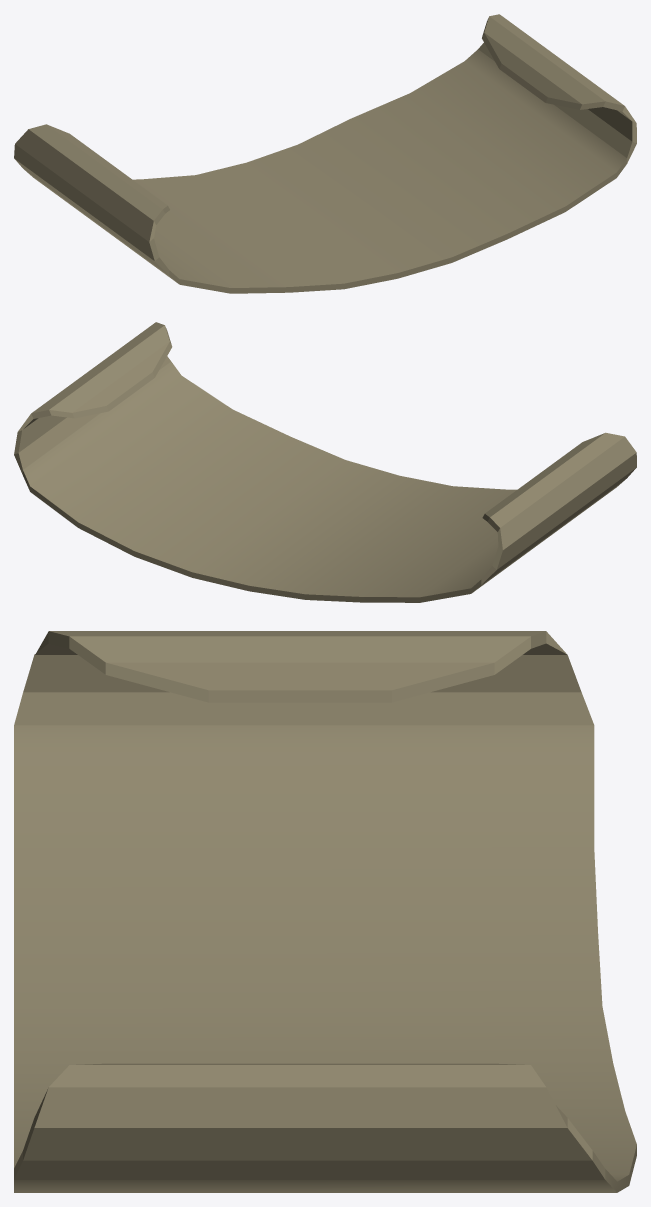
File: Mapa 2.fbx
3 renders of one model, top to bottom at view 1: azimuth 30°, elevation 25°; view 2: azimuth 150°, elevation 25°; view 3: azimuth 270°, elevation 25°, orthographic. The views are drawn at different scales.
Parts seen in each view (by area): view 1: Mapa_1; view 2: Mapa_1; view 3: Mapa_1.
Boxes of the visible parts, bbox=[...] form: Mapa_1: bbox=[14, 14, 636, 293]; Mapa_1: bbox=[14, 322, 636, 602]; Mapa_1: bbox=[14, 631, 636, 1192].
Bounding box in the file's own units: 1.93 × 0.4281 × 1.08.
